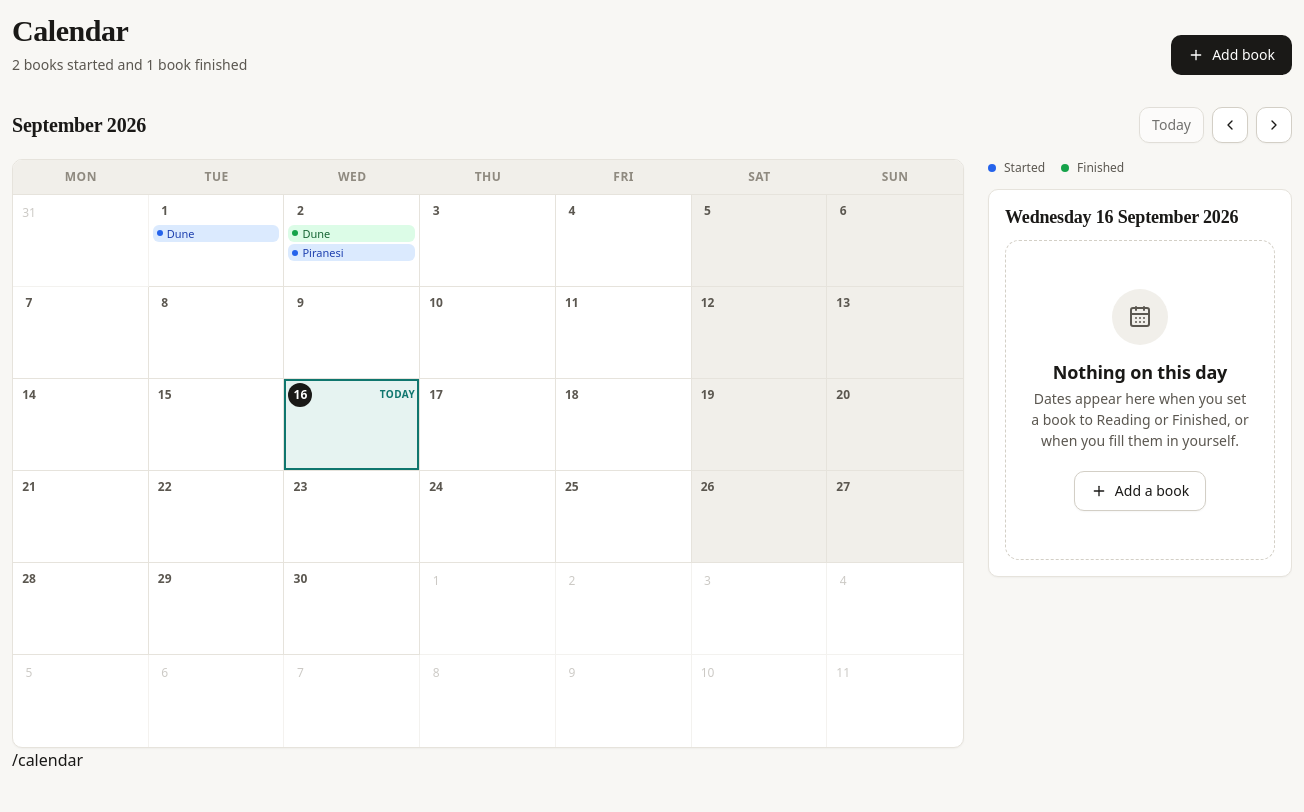
Test case: CalendarPage › selecting a day puts it in the URL and opens it in the panel
Check: the table is shown, box x1=13 y1=160 x2=963 y2=746
Click the button "2" at (300, 210), box x1=288 y1=198 x2=312 y2=222
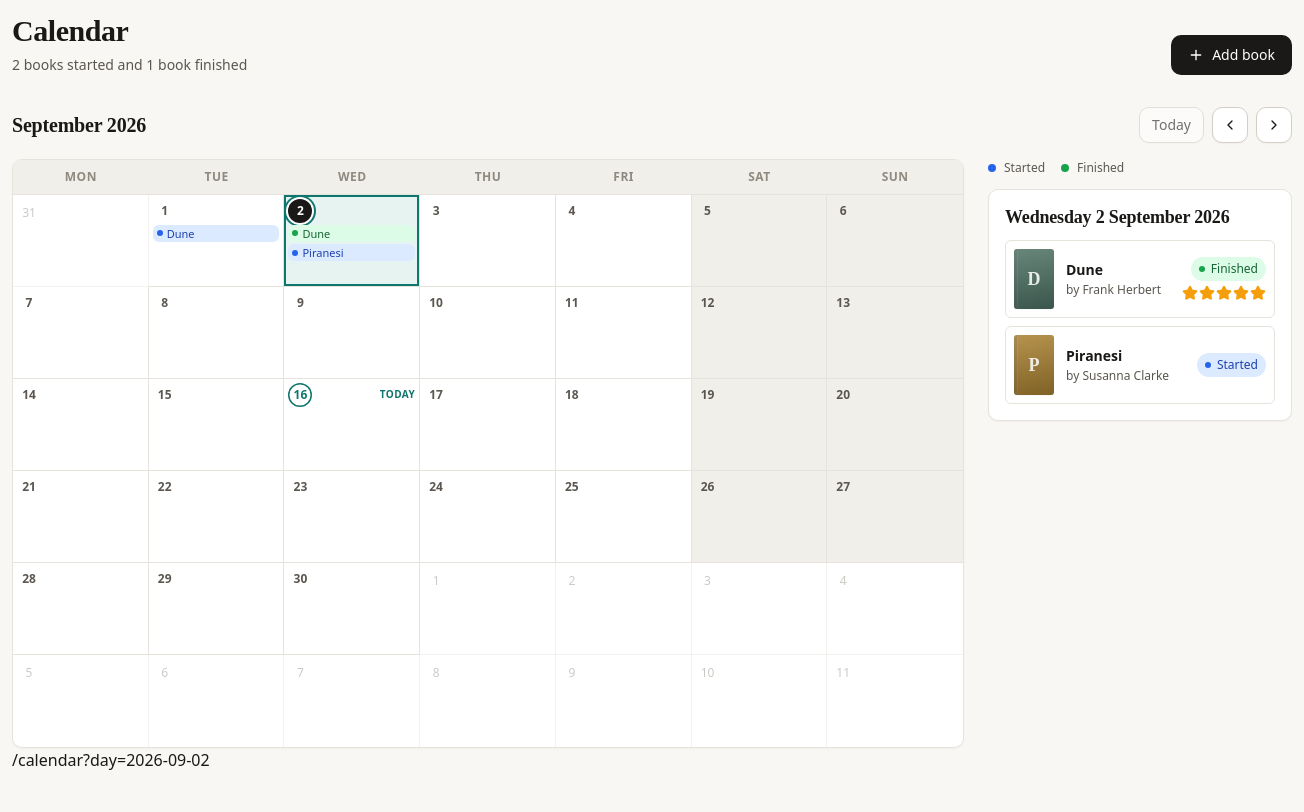
Check: the link with aria-label "Started Piranesi by Susanna Clarke" is shown, box x1=1005 y1=326 x2=1275 y2=404
